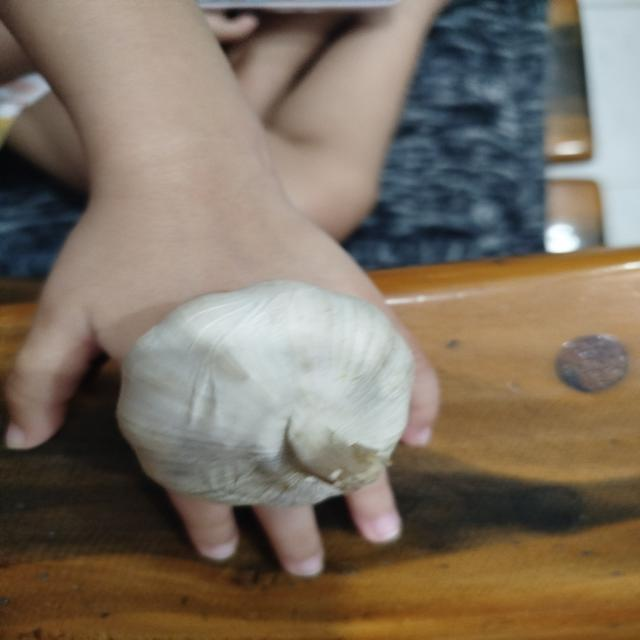garlic: (62, 280, 470, 526)
